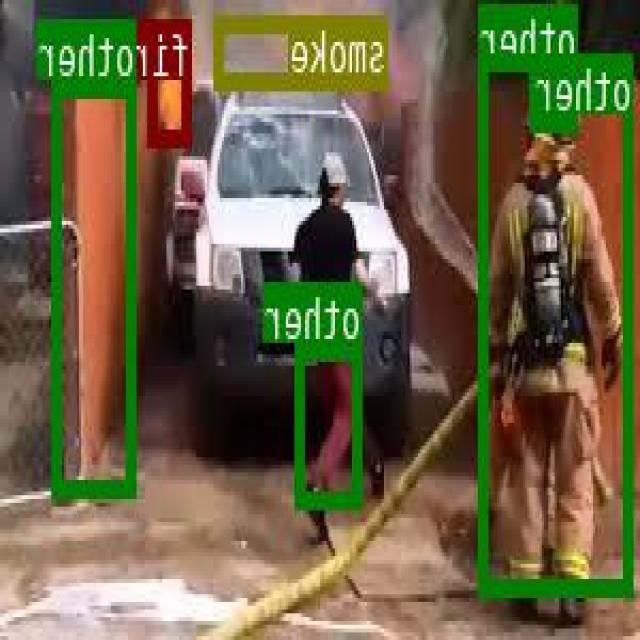fire: (150, 18, 193, 141)
other: (482, 52, 634, 593), (54, 79, 138, 494), (298, 342, 364, 505), (533, 61, 580, 126)
smoke: (218, 15, 390, 86)
